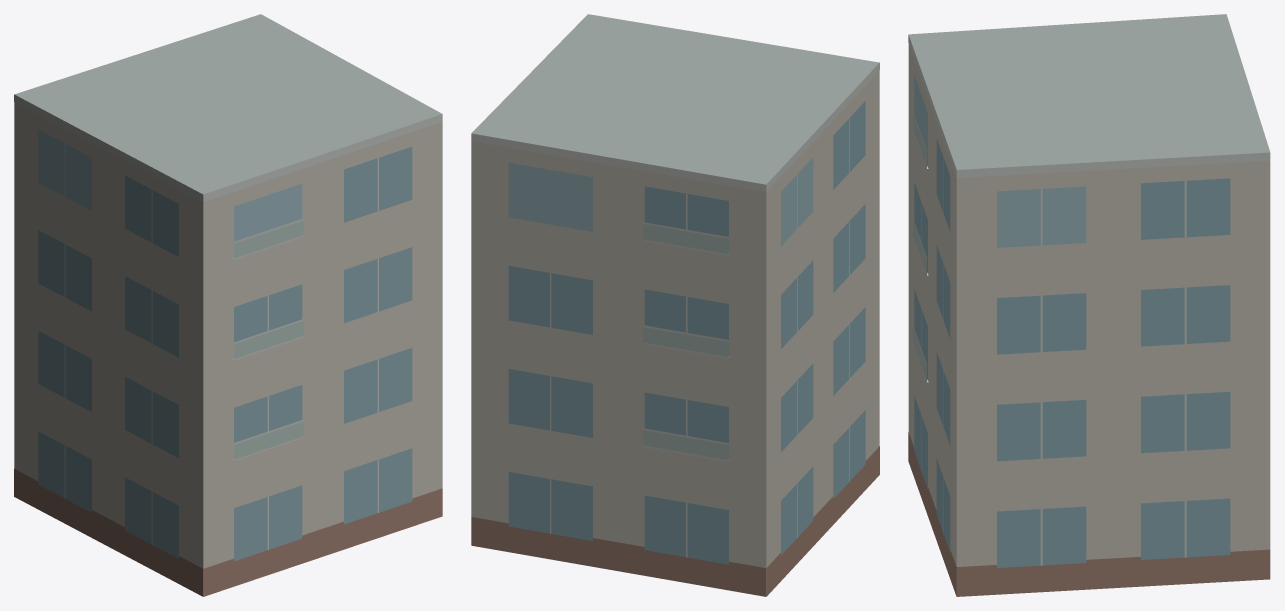
File: survey-upis-32936493.glb
3 renders of one model, left to right at view 1: azimuth 30°, elevation 25°; view 2: azimuth 150°, elevation 25°; view 3: azimuth 270°, elevation 25°, orthographic. The views are drawn at different scales.
Visible parts, largest first — view 1: survey-upis-32936493.tmp; view 2: survey-upis-32936493.tmp; view 3: survey-upis-32936493.tmp.
Boxes of the visible parts, left/top/right/bottom form: survey-upis-32936493.tmp: left=14, top=14, right=442, bottom=596; survey-upis-32936493.tmp: left=471, top=14, right=879, bottom=596; survey-upis-32936493.tmp: left=908, top=14, right=1270, bottom=596.
Bounding box in the file's own units: 10.01 × 12.76 × 9.82.
